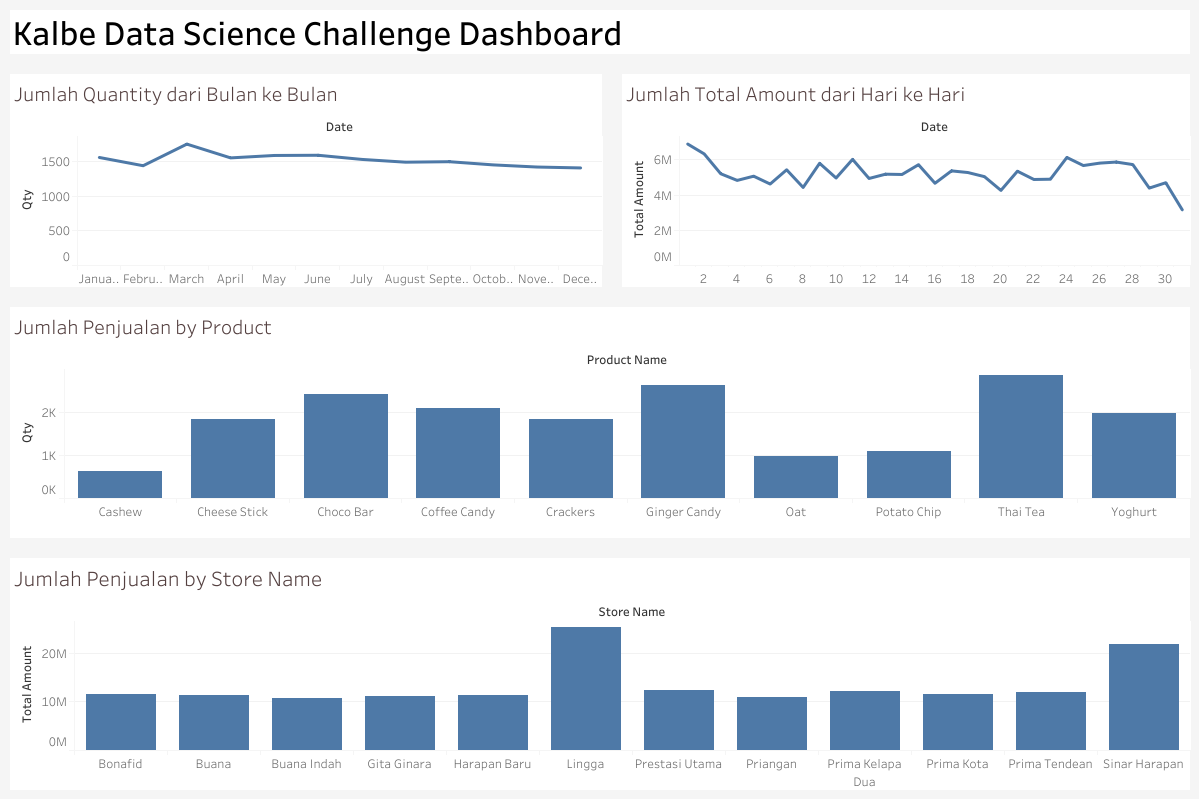

What the dashboard file says about the page in this screenshot:
{"tool":"tableau","page":{"name":"Dashboard 1","canvas":[1200,800],"ordinal":0},"visuals":[{"type":"text","box":[0,0,1200,64]},{"type":"worksheet","title":"Worksheet 1","mark":"Automatic","rows":["Qty"],"cols":["Date"],"box":[0,64,612,233]},{"type":"worksheet","title":"Worksheet 2","mark":"Automatic","rows":["TotalAmount"],"cols":["Date"],"box":[612,64,587.8,233]},{"type":"worksheet","title":"Worksheet 3","mark":"Automatic","rows":["Qty"],"cols":["Product Name"],"box":[0,297,1200,251]},{"type":"worksheet","title":"Worksheet 4","mark":"Automatic","rows":["TotalAmount"],"cols":["StoreName"],"box":[0,548,1200,252]}]}

Visuals, with their boxes in screenshot pixels (x1, y1, x2, y2), scaled from the page's 1200x800 canvas onto the 1199x799 screenshot:
text: BBox(0, 0, 1198, 64)
"Worksheet 1" worksheet: BBox(0, 64, 611, 297)
"Worksheet 2" worksheet: BBox(611, 64, 1198, 297)
"Worksheet 3" worksheet: BBox(0, 297, 1198, 547)
"Worksheet 4" worksheet: BBox(0, 547, 1198, 798)
